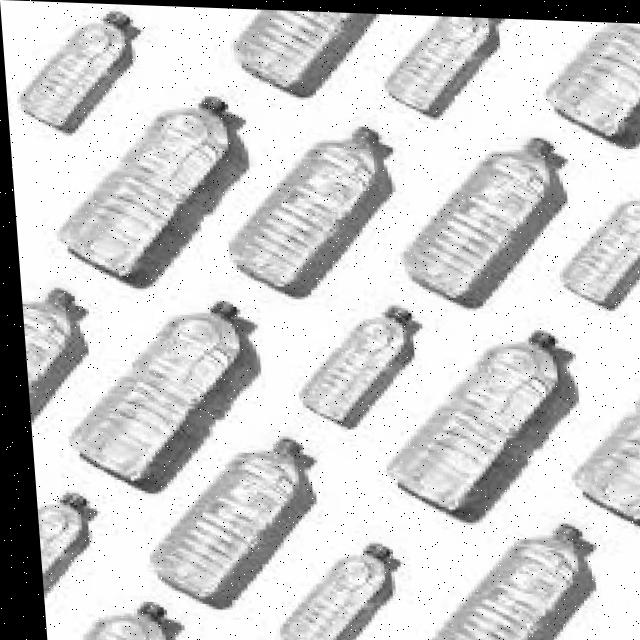bottle: (213, 101, 404, 296), (9, 1, 149, 138)
